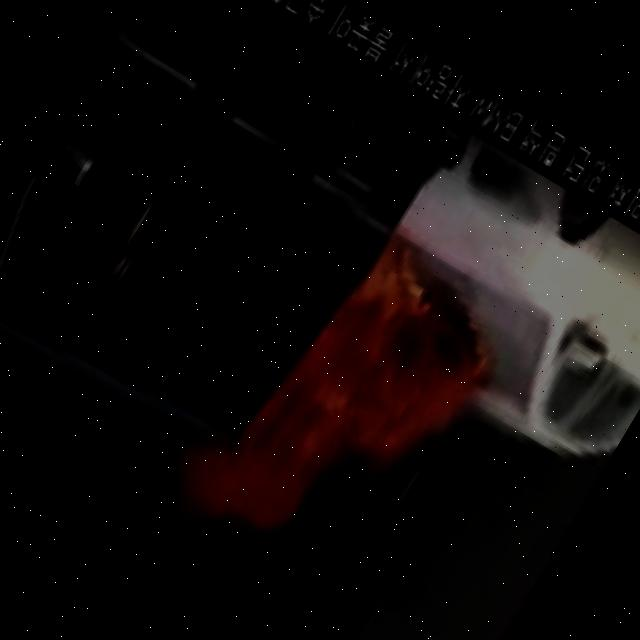Fire: (130, 195, 527, 626)
Smoke: (0, 430, 252, 629)
